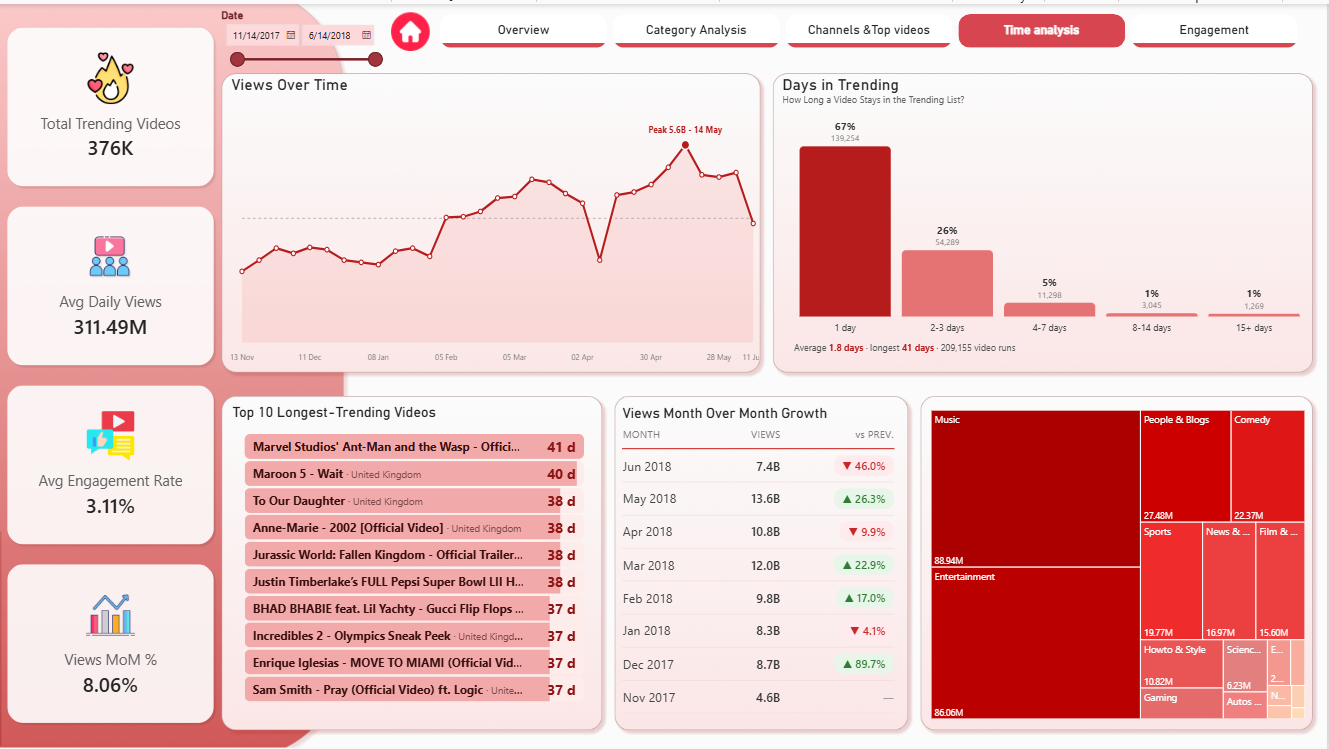

The dashboard page shown, as its layout file describes it:
{"tool":"powerbi","page":{"name":"Time analysis","canvas":[1920,1080],"ordinal":4},"visuals":[{"type":"cardVisual","fields":{"Data":["Measures (2).Trending Video Count","Measures (2).Avg Daily Views","Measures (2).Engagement Rate","Measures (2).Views MoM %"]},"box":[0,23.9,320.2,1028.8],"z":0},{"type":"htmlContent443BE3AD55E043BF878BED274D3A6865","title":"Days in Trending","fields":{"content":["DAX.Days Distribution HTML"]},"box":[1133,103.7,772,470.5],"z":1000},{"type":"htmlContent443BE3AD55E043BF878BED274D3A6865","title":"Views Over Time","fields":{"content":["DAX.Line HTML"]},"box":[334.1,103.7,764.3,435.9],"z":2000},{"type":"htmlContent443BE3AD55E043BF878BED274D3A6865","title":"Top 10 Longest-Trending Videos","fields":{"content":["DAX.Longest Trending HTML"]},"box":[320.7,564.6,558.8,499.3],"z":3000},{"type":"htmlContent443BE3AD55E043BF878BED274D3A6865","title":"Views Month Over Month Growth","fields":{"content":["DAX.MoM Growth HTML"]},"box":[884.9,566.4,426.3,485.9],"z":4000},{"type":"treemap","fields":{"Group":["Dim_Category.category_name"],"Values":["Measures (2).Avg Daily Views"]},"box":[1331.1,573.3,573.3,477.1],"z":5000},{"type":"actionButton","box":[557.7,7.4,73.6,66.3],"z":7000},{"type":"slicer","title":"Date","fields":{"Values":["DimDate.Date"]},"box":[320.2,7.4,239.3,88.3],"z":8000},{"type":"pageNavigator","box":[636.8,14.7,1246,49.7],"z":8001}]}

Visuals, with their boxes on the page's 1920x1080 design canvas (x1, y1, x2, y2). These are canvas units, not pixel positions in the 1329x749 screenshot, which may show the page scaled, cropped or inside an application window:
cardVisual - Measures (2).Trending Video Count x Measures (2).Avg Daily Views: box(0, 24, 320, 1053)
"Days in Trending" htmlContent443BE3AD55E043BF878BED274D3A6865: box(1133, 104, 1905, 574)
"Views Over Time" htmlContent443BE3AD55E043BF878BED274D3A6865: box(334, 104, 1098, 540)
"Top 10 Longest-Trending Videos" htmlContent443BE3AD55E043BF878BED274D3A6865: box(321, 565, 880, 1064)
"Views Month Over Month Growth" htmlContent443BE3AD55E043BF878BED274D3A6865: box(885, 566, 1311, 1052)
treemap - Dim_Category.category_name x Measures (2).Avg Daily Views: box(1331, 573, 1904, 1050)
actionButton: box(558, 7, 631, 74)
"Date" slicer: box(320, 7, 560, 96)
pageNavigator: box(637, 15, 1883, 64)
